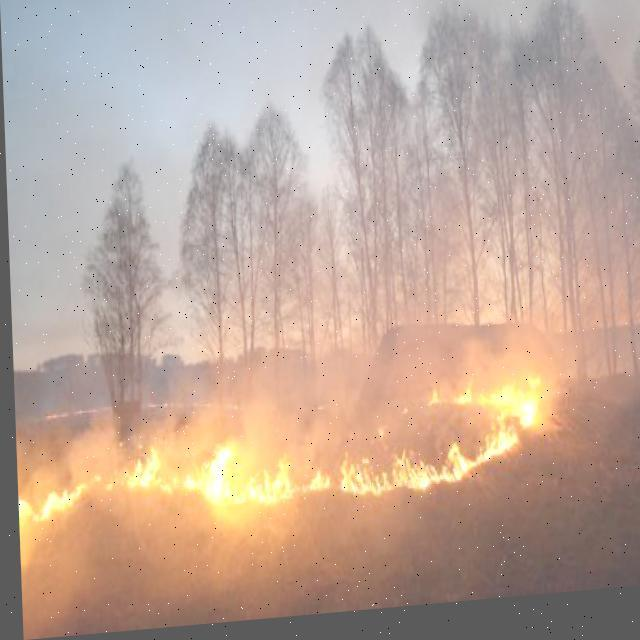Fire: (13, 378, 546, 542)
